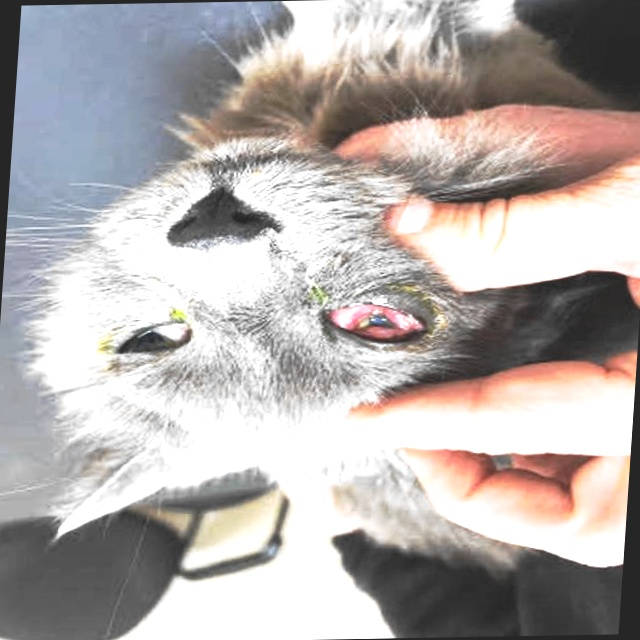eye_infection: (312, 287, 430, 352), (101, 320, 192, 358)
